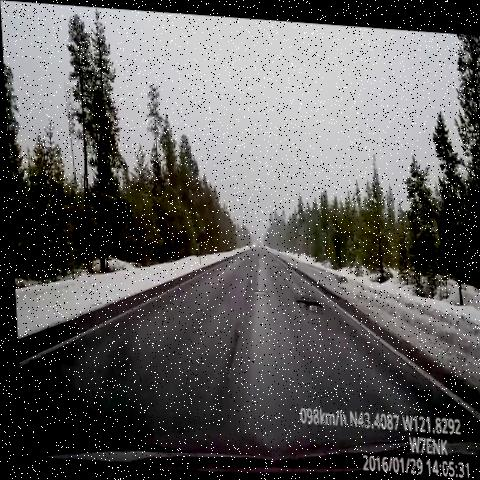pothole: (289, 285, 327, 313), (242, 276, 271, 301)
